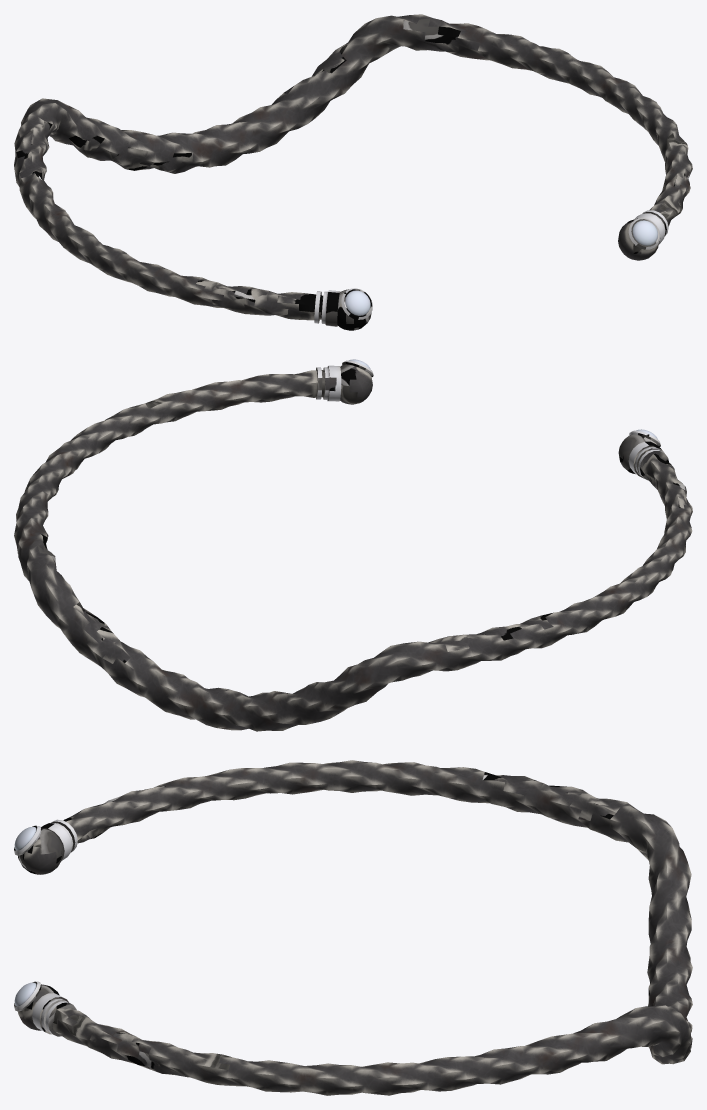
The model's file is NHAcc_MoonTorc.fbx.
3 renders of one model, top to bottom at view 1: azimuth 30°, elevation 25°; view 2: azimuth 150°, elevation 25°; view 3: azimuth 270°, elevation 25°, orthographic. The views are drawn at different scales.
Visible parts, largest first — view 1: MoonTorc; view 2: MoonTorc; view 3: MoonTorc.
Boxes of the visible parts, x1,y1,x2,y2 form: MoonTorc: (14,14,692,330); MoonTorc: (14,359,692,731); MoonTorc: (14,760,692,1095).
Bounding box in the file's own units: 1.28 × 0.2511 × 1.16.
